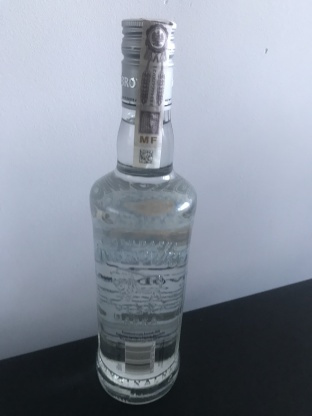nakretka: (118, 13, 178, 112)
